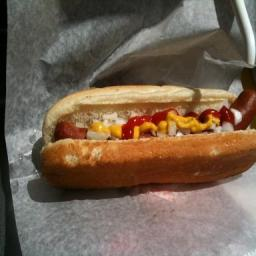hotdog: (56, 116, 256, 140), (228, 85, 256, 123)
